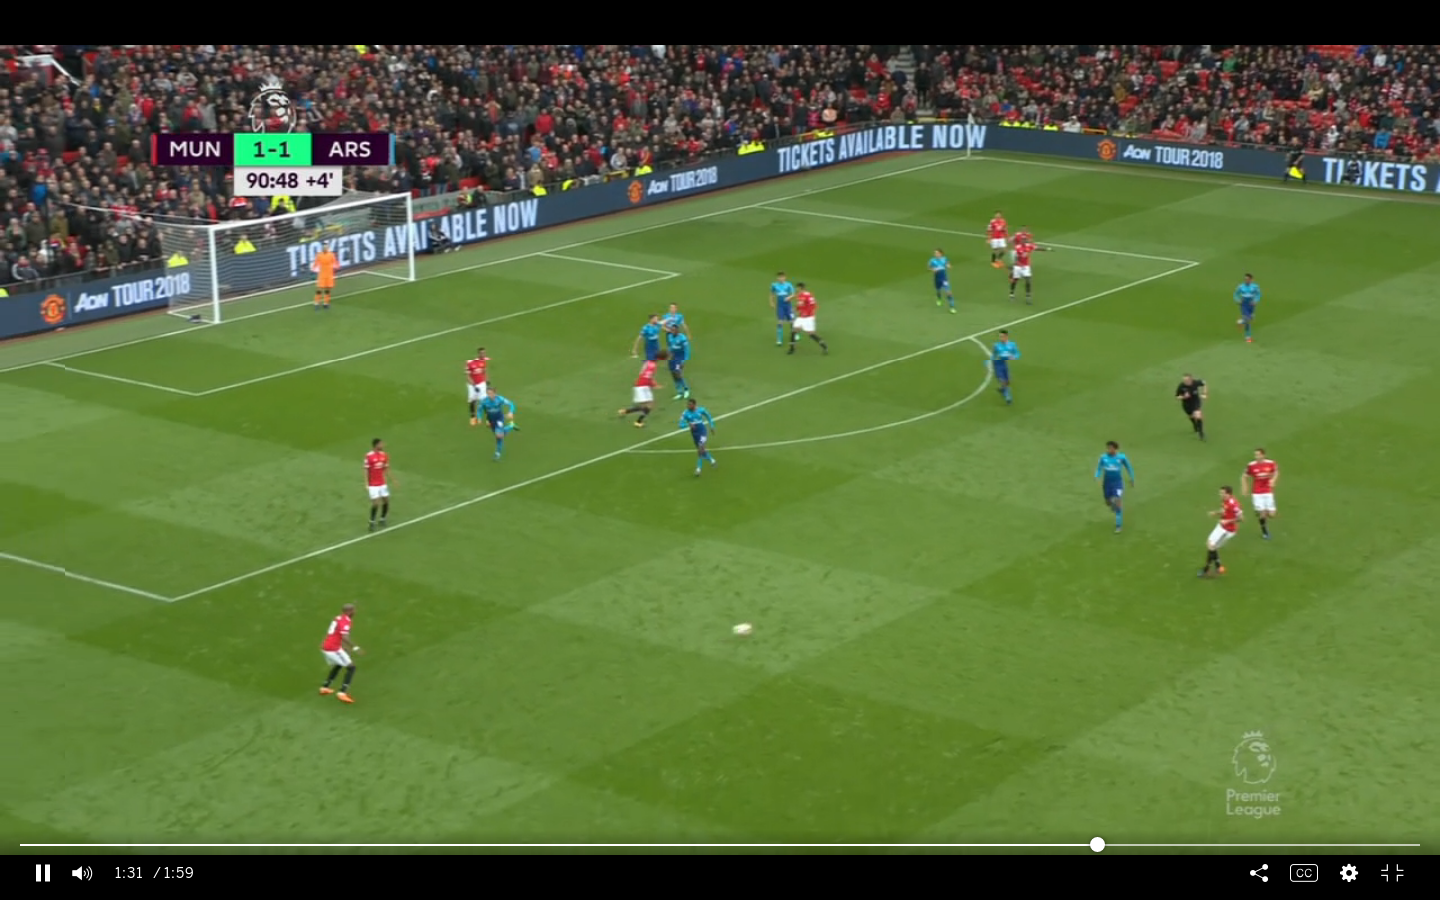referee: (1173, 369, 1216, 449)
soccer player: (307, 599, 368, 711), (1093, 437, 1142, 534), (982, 323, 1027, 417), (1199, 483, 1242, 579), (361, 436, 399, 531), (618, 354, 665, 431), (1242, 446, 1279, 539), (1005, 232, 1050, 303), (676, 396, 716, 474), (476, 386, 515, 462), (788, 277, 822, 359), (465, 343, 496, 431), (761, 269, 792, 351), (308, 236, 342, 308), (1233, 266, 1264, 343), (984, 205, 1013, 272), (928, 249, 955, 316), (632, 309, 665, 365), (667, 328, 692, 389)
soccerball: (725, 616, 761, 646)
